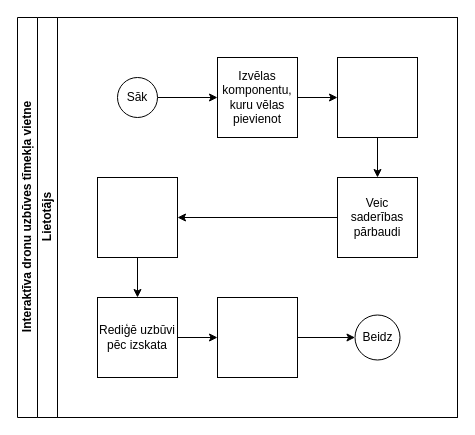
Some shapes in this 475 by 435 pixel diagram are drawn without their labels. Here are the shapes that lost their labels. From the top down, the box of each, then its label:
(336, 56, 418, 138): Izveido visas komponentas
(96, 176, 178, 258): Izveido saderīgu uzbūvi
(216, 296, 298, 378): Veic interaktīvo uzbūvi soli pa solim
